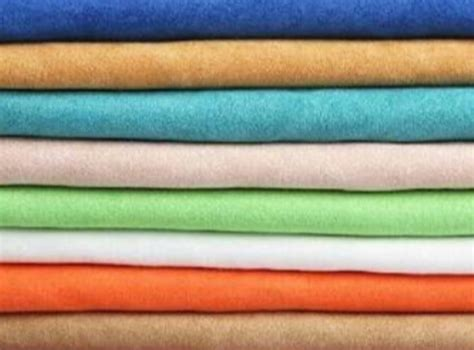gamuza: (1, 1, 474, 350)
